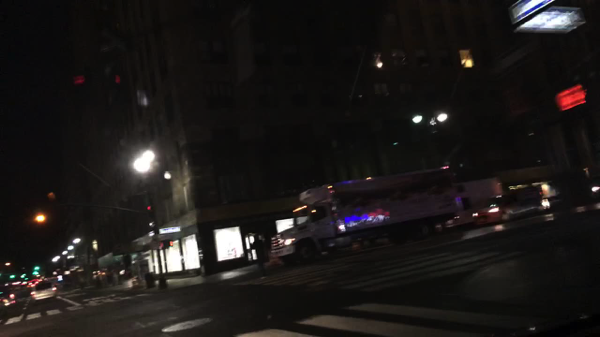car: (472, 186, 552, 224), (31, 279, 57, 304), (0, 289, 18, 320), (589, 181, 599, 203), (19, 284, 31, 295)
person: (249, 233, 267, 277)
traffic light: (34, 205, 44, 225), (145, 198, 151, 213), (166, 241, 174, 248), (9, 274, 17, 280), (21, 274, 27, 280), (32, 273, 39, 277), (34, 266, 39, 271)
traffic sign: (159, 227, 180, 235)
truck: (268, 165, 457, 266), (435, 178, 504, 232)
